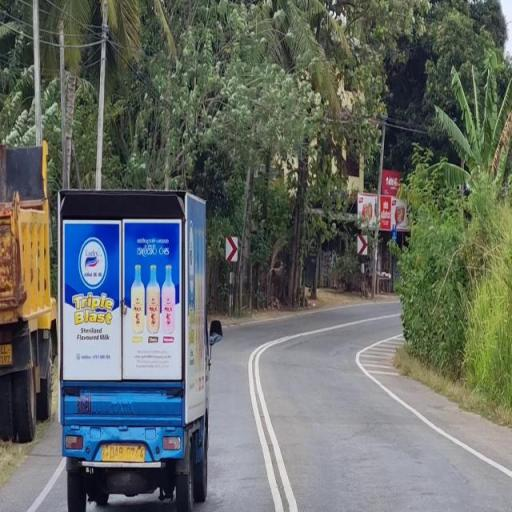double_white_line: (357, 338, 510, 480), (246, 333, 295, 512), (26, 457, 64, 510)
